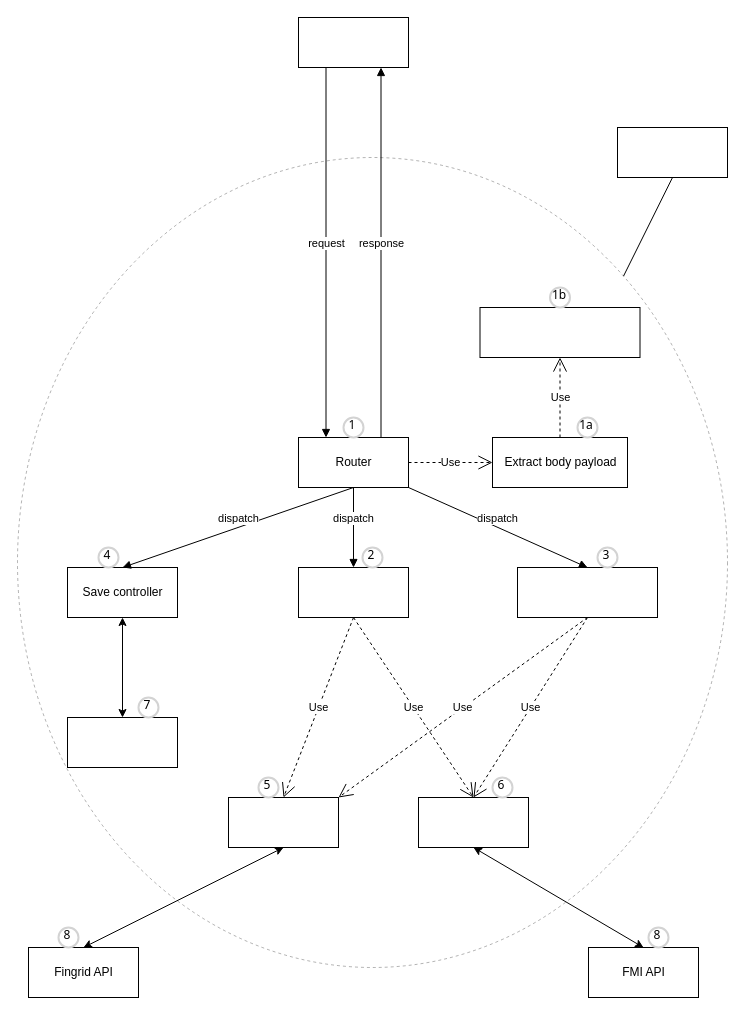
Some shapes in this 745 by 1015 pixel diagram are drawn without their labels. Each missing label, with the box of its shape:
Backend: (616, 126, 728, 178)
Combine Controller: (298, 566, 408, 618)
Database: (66, 716, 178, 768)
Fingrid controller: (228, 796, 338, 848)
FMI controller: (418, 796, 528, 848)
Frontend: (298, 16, 408, 68)
JSON to object converter: (479, 306, 640, 358)
Percentage calculation controller: (516, 566, 658, 618)
